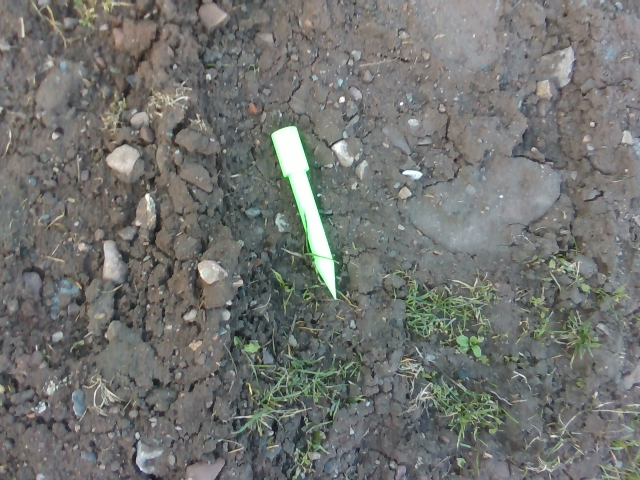Probe: (260, 119, 343, 304)
